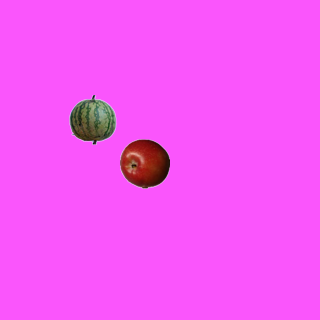Apple Braeburn: (119, 138, 169, 188)
Watermelon: (67, 94, 117, 144)
